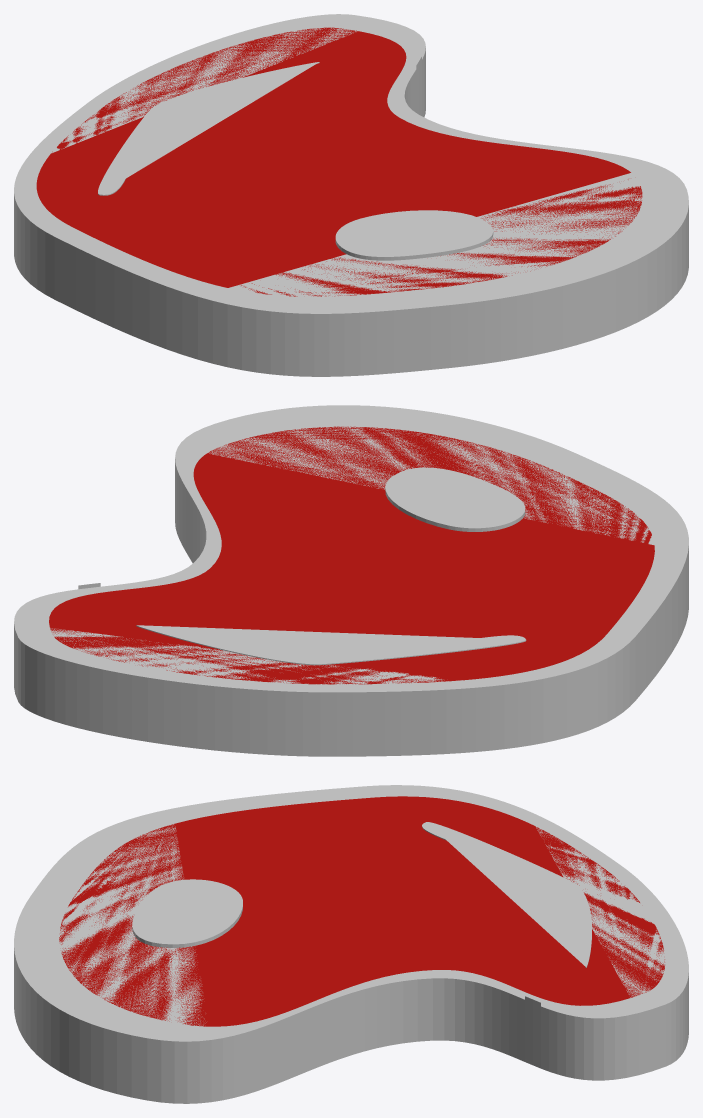
File: steak.fbx
The picture shows the model from 3 angles, top to bottom: view 1: azimuth 30°, elevation 25°; view 2: azimuth 150°, elevation 25°; view 3: azimuth 270°, elevation 25°; orthographic projection. The views are drawn at different scales.
Parts seen in each view (by area): view 1: BezierCircle.002; view 2: BezierCircle.002; view 3: BezierCircle.002.
Part boxes in pixels (x1=…): BezierCircle.002: x1=14, y1=14, x2=688, y2=376; BezierCircle.002: x1=14, y1=405, x2=688, y2=756; BezierCircle.002: x1=14, y1=785, x2=688, y2=1103.
Size of the model in its own units: 243 by 29.13 by 270.
